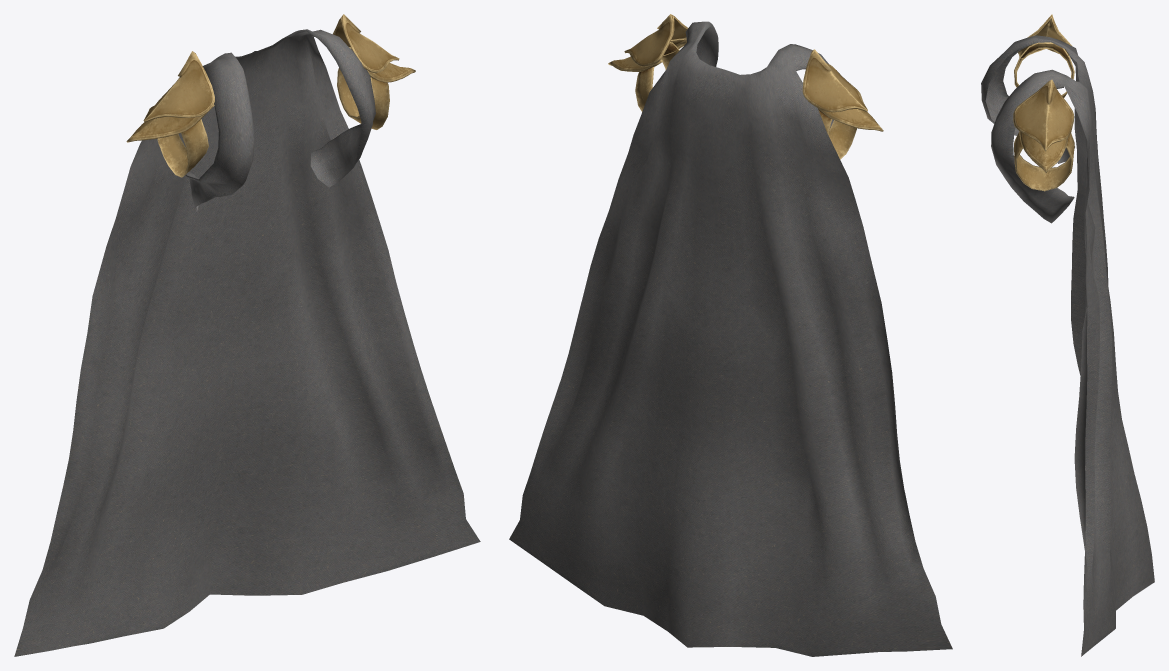
The model's file is rivendell_pauldron_tier1_cape.fbx.
The picture shows the model from 3 angles, left to right: view 1: azimuth 30°, elevation 25°; view 2: azimuth 150°, elevation 25°; view 3: azimuth 270°, elevation 25°; orthographic projection. The views are drawn at different scales.
Parts seen in each view (by area): view 1: rivendell_pauldron_tier1_cape.0, rivendell_pauldron_tier1_cape.1; view 2: rivendell_pauldron_tier1_cape.0, rivendell_pauldron_tier1_cape.1; view 3: rivendell_pauldron_tier1_cape.0, rivendell_pauldron_tier1_cape.1.
Part boxes in pixels (left/top/right/bottom): rivendell_pauldron_tier1_cape.0: left=14, top=29, right=480, bottom=656; rivendell_pauldron_tier1_cape.1: left=126, top=14, right=415, bottom=177; rivendell_pauldron_tier1_cape.0: left=509, top=21, right=952, bottom=656; rivendell_pauldron_tier1_cape.1: left=608, top=14, right=883, bottom=159; rivendell_pauldron_tier1_cape.0: left=981, top=35, right=1154, bottom=656; rivendell_pauldron_tier1_cape.1: left=1013, top=14, right=1074, bottom=191.
Bounding box in the file's own units: 1.22 × 0.4447 × 1.51.
Materials: 2 (2 with a texture image).
